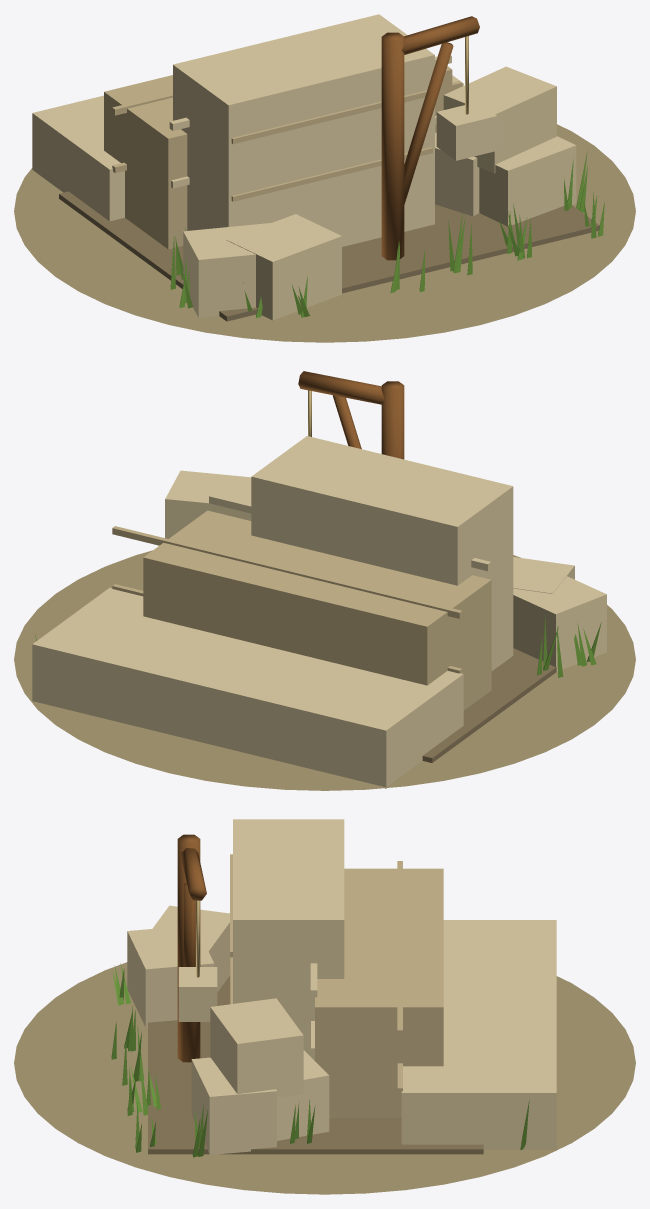
File: improvement_quarry.fbx
The picture shows the model from 3 angles, top to bottom: view 1: azimuth 30°, elevation 25°; view 2: azimuth 150°, elevation 25°; view 3: azimuth 270°, elevation 25°; orthographic projection.
Parts seen in each view (by area): view 1: improvement_quarry_qstone_03, improvement_quarry_gpatch#a89870r_00, improvement_quarry_qstone2_04, improvement_quarry_qdark_02, improvement_quarry_wood#8a5a2c.003_05, improvement_quarry_leaf#6a9a3a.001_01; view 2: improvement_quarry_qstone_03, improvement_quarry_qstone2_04, improvement_quarry_gpatch#a89870r_00, improvement_quarry_wood#8a5a2c.003_05, improvement_quarry_qdark_02, improvement_quarry_leaf#6a9a3a.001_01; view 3: improvement_quarry_qstone_03, improvement_quarry_gpatch#a89870r_00, improvement_quarry_qstone2_04, improvement_quarry_qdark_02, improvement_quarry_wood#8a5a2c.003_05, improvement_quarry_leaf#6a9a3a.001_01.
Boxes of the visible parts, x1,y1,x2,y2 form: improvement_quarry_qstone_03: (32,14,576,320); improvement_quarry_gpatch#a89870r_00: (14,124,635,342); improvement_quarry_qstone2_04: (104,66,462,249); improvement_quarry_qdark_02: (59,191,599,321); improvement_quarry_wood#8a5a2c.003_05: (381,16,479,260); improvement_quarry_leaf#6a9a3a.001_01: (170,150,604,318); improvement_quarry_qstone_03: (32,436,606,788); improvement_quarry_qstone2_04: (112,510,491,710); improvement_quarry_gpatch#a89870r_00: (14,550,635,790); improvement_quarry_wood#8a5a2c.003_05: (298,371,404,459); improvement_quarry_qdark_02: (422,648,556,762); improvement_quarry_leaf#6a9a3a.001_01: (35,615,601,677); improvement_quarry_qstone_03: (127,819,556,1154); improvement_quarry_gpatch#a89870r_00: (14,962,635,1194); improvement_quarry_qstone2_04: (230,854,443,1117); improvement_quarry_qdark_02: (148,975,483,1154); improvement_quarry_wood#8a5a2c.003_05: (177,834,206,1062); improvement_quarry_leaf#6a9a3a.001_01: (111,963,529,1157).
Bounding box in the file's own units: 137 × 56.47 × 137.
